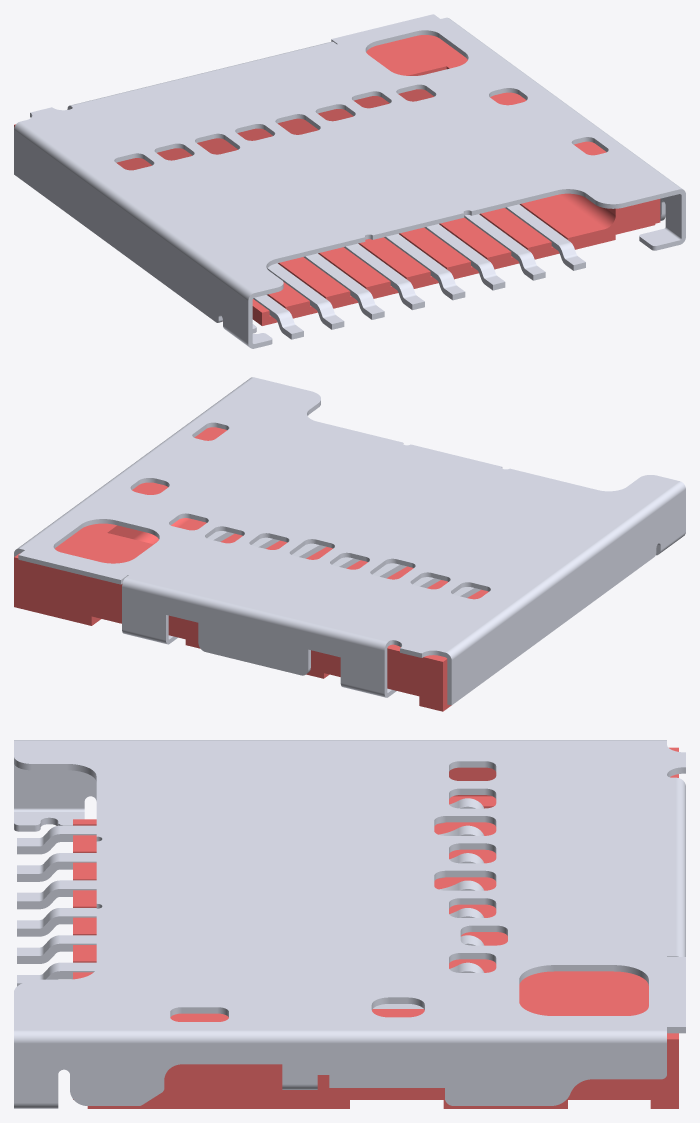
File: SLOT_CARD_ASM.gltf
3 renders of one model, top to bottom at view 1: azimuth 30°, elevation 25°; view 2: azimuth 150°, elevation 25°; view 3: azimuth 270°, elevation 25°, orthographic. The views are drawn at different scales.
Parts seen in each view (by area): view 1: PART3_V1, SD_CARD_V1, CARD_SLOT_METAL_PIN (×8); view 2: PART3_V1, SD_CARD_V1; view 3: PART3_V1, SD_CARD_V1, CARD_SLOT_METAL_PIN (×6).
Boxes of the visible parts, <box> form: PART3_V1: <box>14,14,685,348</box>; SD_CARD_V1: <box>14,35,660,325</box>; CARD_SLOT_METAL_PIN (×8): <box>253,204,585,339</box>; PART3_V1: <box>14,377,685,705</box>; SD_CARD_V1: <box>14,427,488,711</box>; PART3_V1: <box>14,740,685,1108</box>; SD_CARD_V1: <box>73,747,678,1108</box>; CARD_SLOT_METAL_PIN (×6): <box>17,798,484,986</box>.
Bounding box in the file's own units: 0.012 × 0.00148 × 0.0114.
